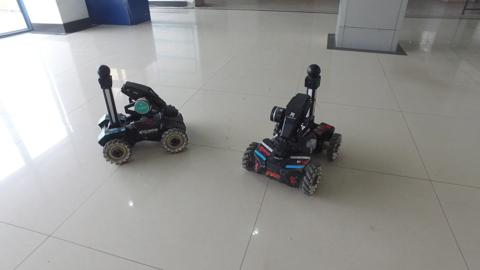chariot: (237, 60, 351, 203), (87, 59, 193, 172)
